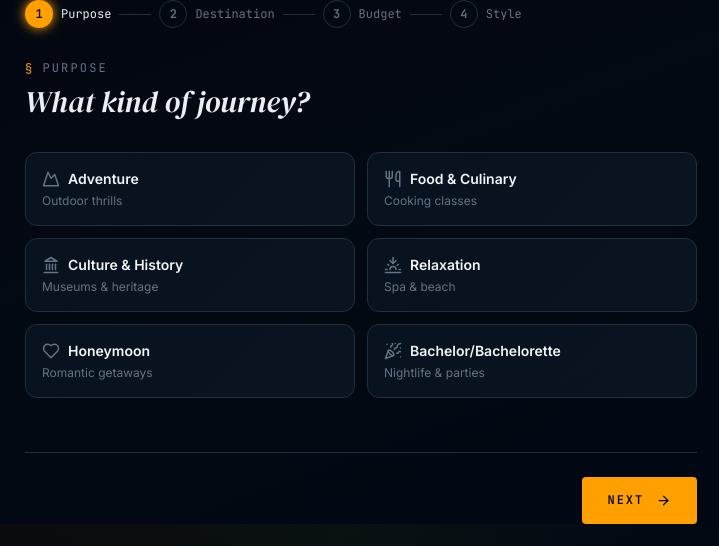
Test case: PlanWizard › fills destination, origin, dates then proceeds to step 3
Click the button "Adventure Outdoor thrills" at (103, 178), box [25, 152, 355, 226]
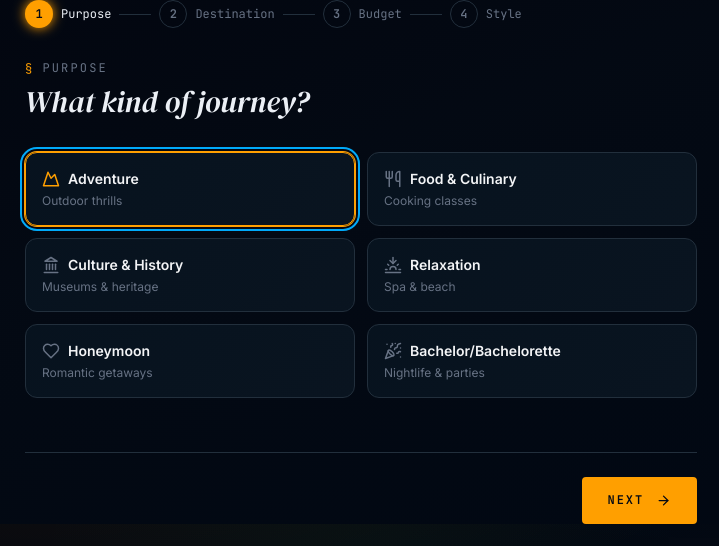
Click the button "Next" at (639, 500), box [582, 477, 697, 524]
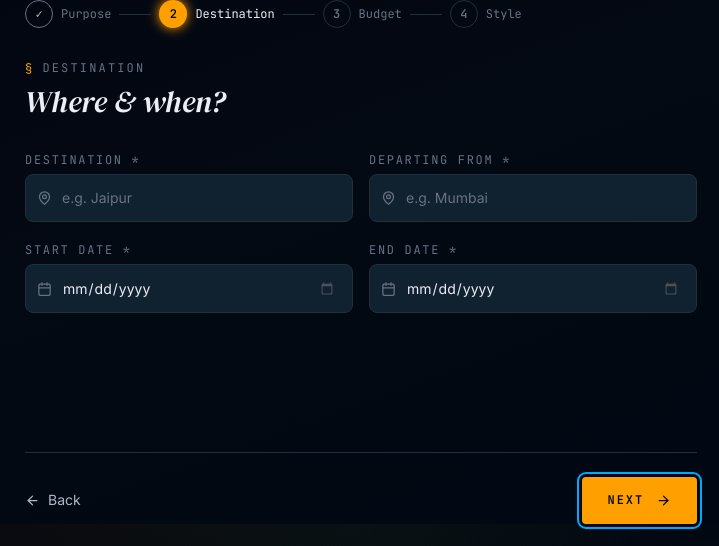
Type "Delhi" into the field with placeholder "e.g. Mumbai" at (533, 198), box [369, 174, 697, 222]
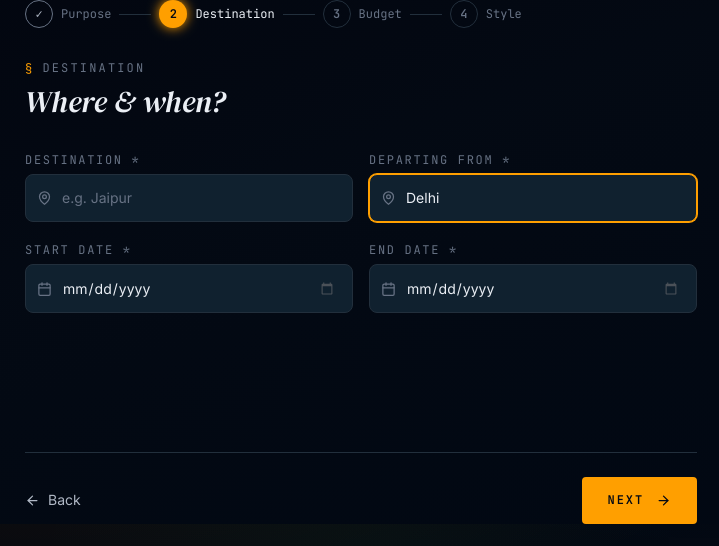
Type "Tokyo" into the field with placeholder "e.g. Jaipur" at (189, 198), box [25, 174, 353, 222]
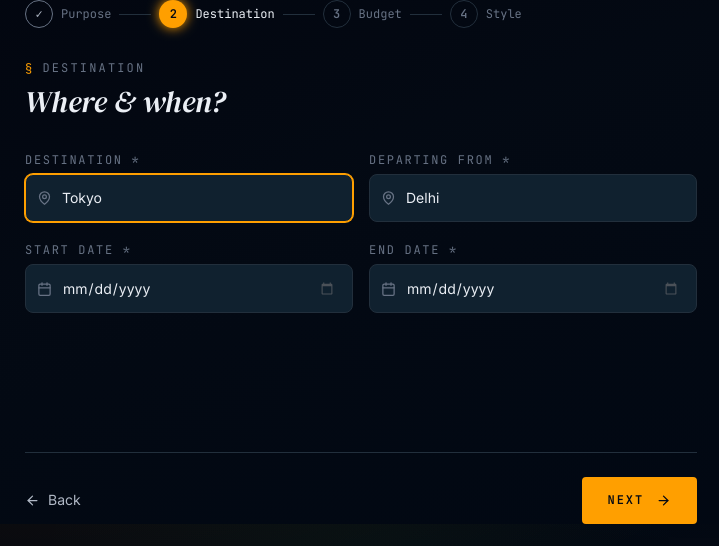
Type "2026-10-01" into the date field below "Start Date *" at (189, 289), box [25, 264, 353, 313]
Type "2026-10-05" into the date field below "End Date *" at (533, 289), box [369, 264, 697, 313]
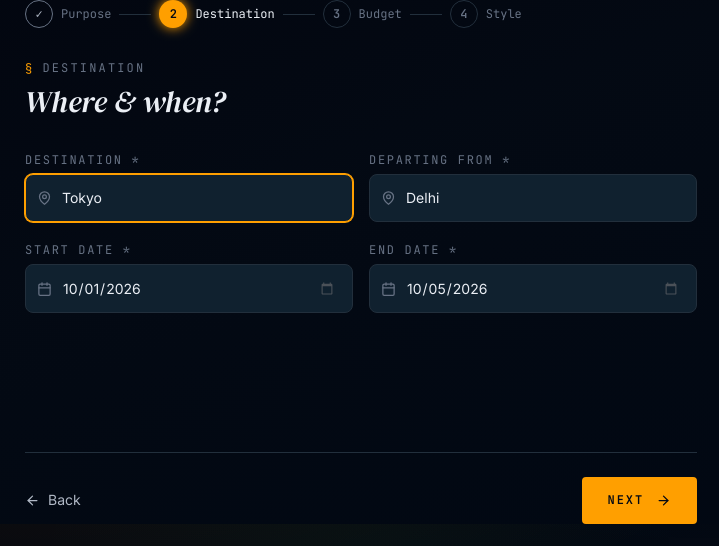
Click the button "Next" at (639, 500), box [582, 477, 697, 524]
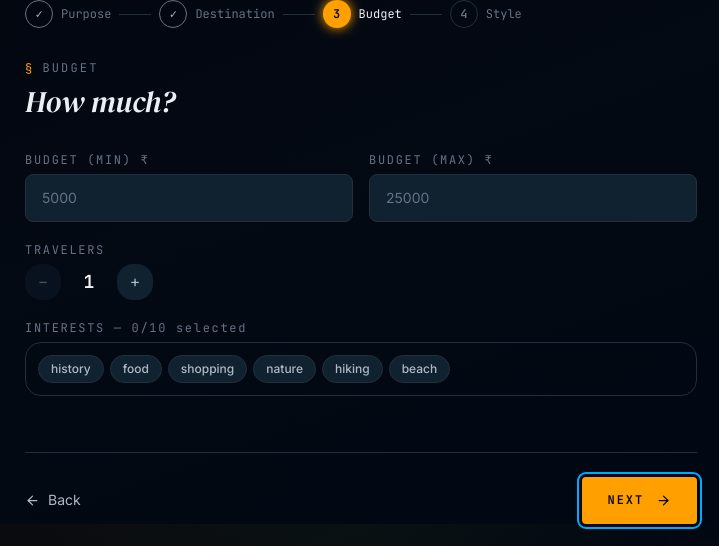
Result: the text "Budget (Min) ₹" is shown at [25, 152, 149, 168]
